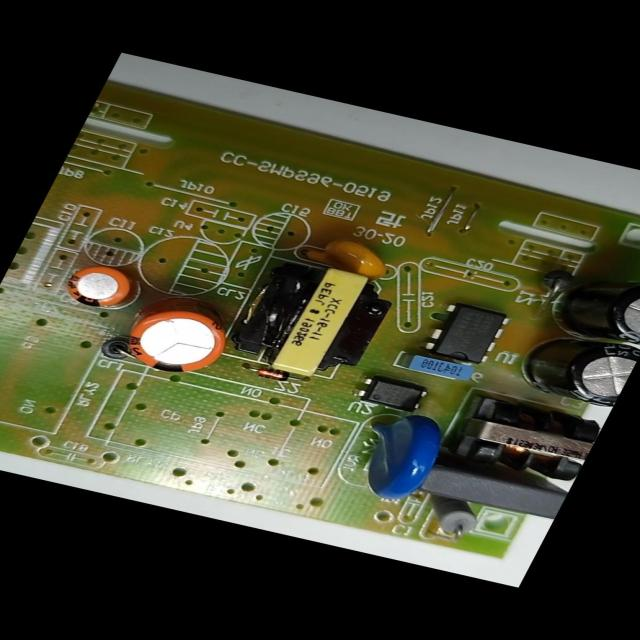Cap1: (114, 300, 238, 382)
Cap2: (57, 259, 138, 314)
Cap3: (513, 326, 639, 410)
Cap4: (556, 266, 640, 346)
MOSFET: (422, 300, 514, 368)
Mov: (344, 407, 456, 505)
Resistor: (416, 496, 486, 539)
Transformer: (222, 255, 406, 388), (448, 394, 604, 485)
